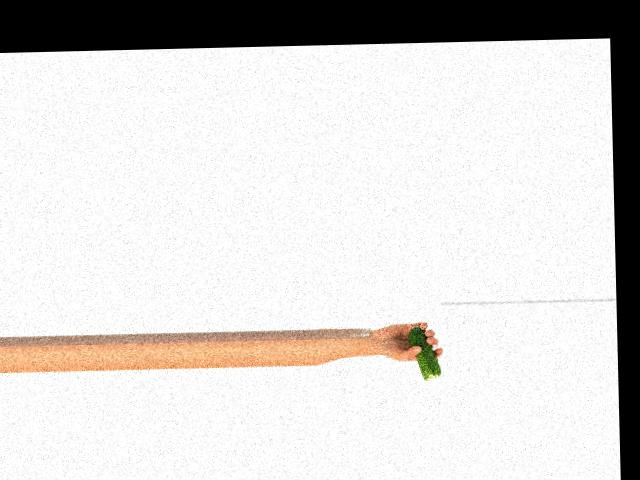cucumber: (407, 325, 440, 380)
